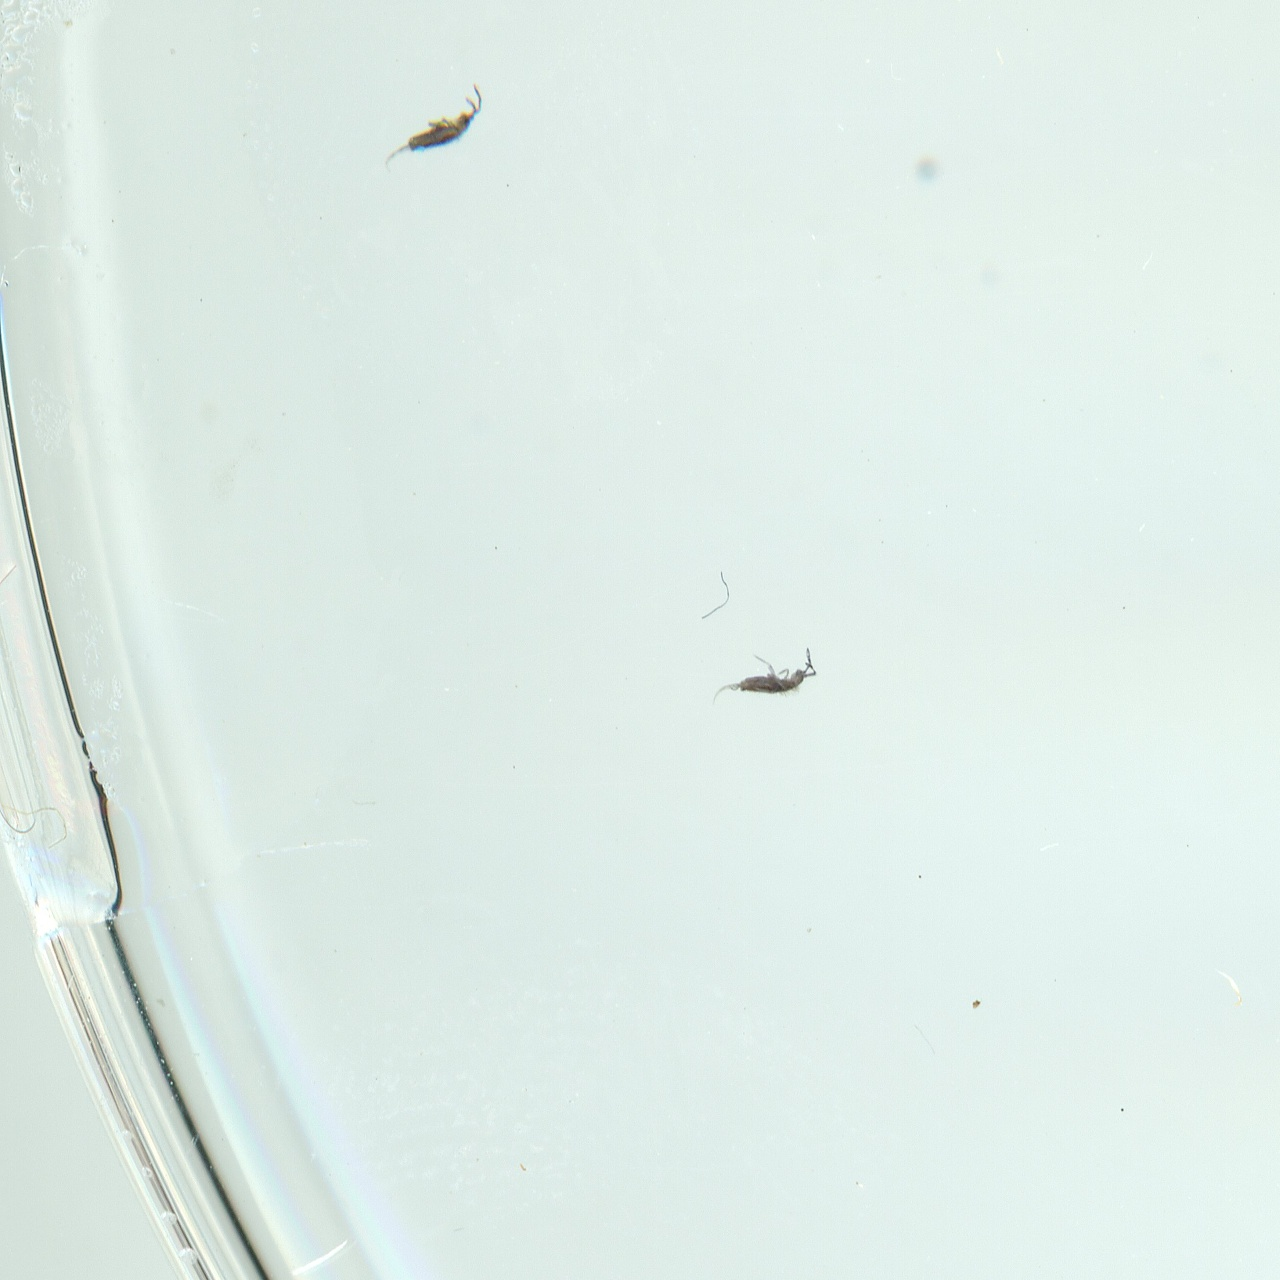arthropod: (381, 84, 489, 166), (706, 645, 821, 708)
